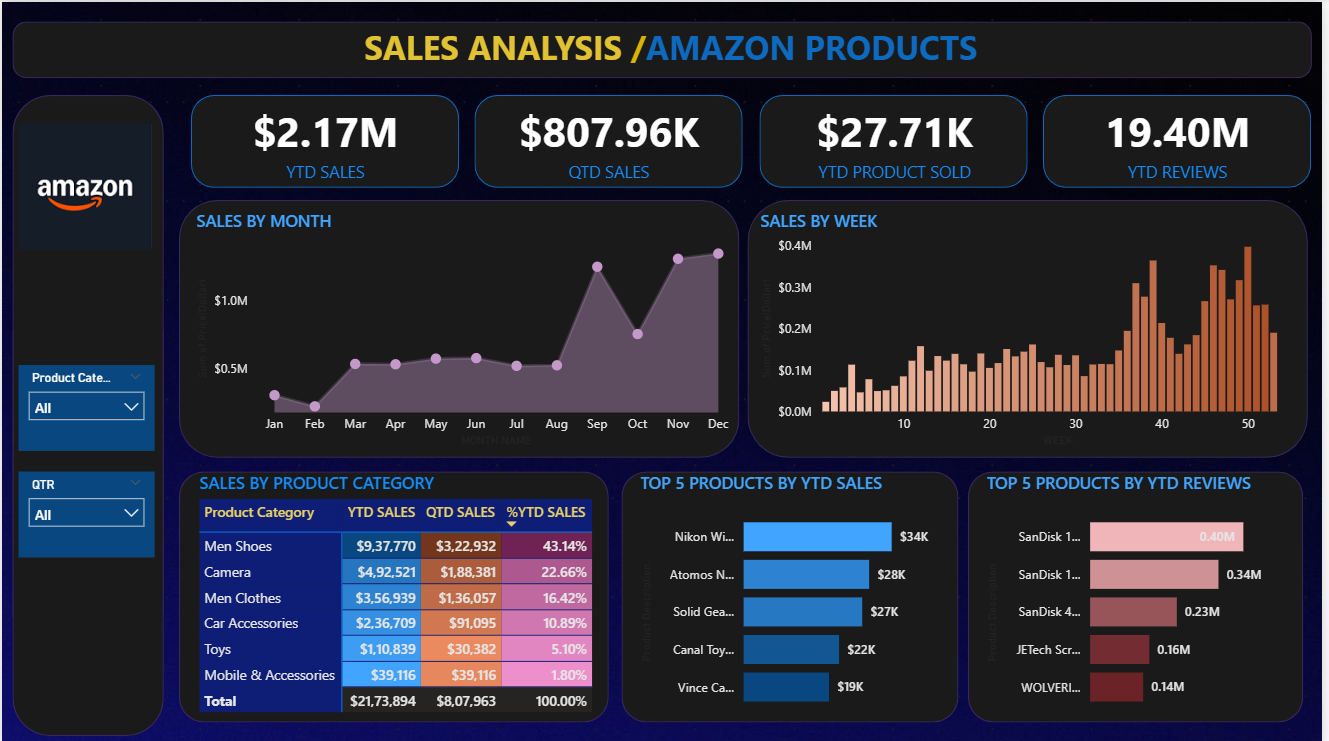

Layout of this report page (visuals, bound fields, positions):
{"tool":"powerbi","page":{"name":"Page 1","canvas":[1280,720],"ordinal":0},"visuals":[{"type":"shape","box":[183.3,90,260,90],"z":0,"group":"g1"},{"type":"shape","box":[10,18.3,1260,55],"z":0},{"type":"shape","box":[458.9,90,260,90],"z":1000,"group":"g1"},{"type":"textbox","box":[346.7,16.7,620,58.3],"z":1000},{"type":"shape","box":[734.4,90,260,90],"z":2000,"group":"g1"},{"type":"shape","box":[10,90,146.7,621.7],"z":2000},{"type":"shape","box":[1010,90,260,90],"z":3000,"group":"g1"},{"type":"group","id":"g1","title":"Group 1","box":[183.3,90,1086.7,90],"z":3000},{"type":"card","fields":{"Values":["Amazon_Data.YTD SALES"]},"box":[183.3,90,260,90],"z":4000,"group":"g1"},{"type":"shape","box":[171.7,191.7,543.3,250],"z":4000},{"type":"card","fields":{"Values":["Amazon_Data.QTD SALES"]},"box":[458.3,90,260,90],"z":5000,"group":"g1"},{"type":"areaChart","title":"SALES BY MONTH","fields":{"Category":["DATE TABLE.MONTH NAME"],"Y":["Sum(Amazon_Data.Price(Dollar))"]},"box":[183.3,200,531.7,235],"z":5000},{"type":"card","fields":{"Values":["Amazon_Data.YTD PRODUCT SOLD"]},"box":[736.1,90.6,258.3,90],"z":6000,"group":"g1"},{"type":"shape","box":[723.3,191.7,543.3,250],"z":6000},{"type":"card","fields":{"Values":["Amazon_Data.YTD REVIEWS"]},"box":[1010,90,260,90],"z":7000,"group":"g1"},{"type":"columnChart","title":"SALES BY WEEK","fields":{"Category":["DATE TABLE.WEEK"],"Y":["Sum(Amazon_Data.Price(Dollar))"]},"box":[730,200,531.7,235],"z":7000},{"type":"shape","box":[171.7,455,416.7,243.3],"z":8000},{"type":"pivotTable","title":"SALES BY PRODUCT CATEGORY","fields":{"Values":["Amazon_Data.YTD SALES","Amazon_Data.QTD SALES","Divide(Amazon_Data.YTD SALES, ScopedEval(Amazon_Data.YTD SALES, []))"],"Rows":["Amazon_Data.Product Category"]},"box":[186.7,455,401.7,243.3],"z":9000},{"type":"shape","box":[600,455,326.7,243.3],"z":11000},{"type":"shape","box":[936.7,455,325,243.3],"z":12000},{"type":"clusteredBarChart","title":"TOP 5 PRODUCTS BY YTD SALES","fields":{"Category":["Amazon_Data.Product Description"],"Y":["Amazon_Data.YTD SALES"]},"box":[613.3,455,300,243.3],"z":13000},{"type":"clusteredBarChart","title":"TOP 5 PRODUCTS BY YTD REVIEWS","fields":{"Category":["Amazon_Data.Product Description"],"Y":["DATE TABLE.YTD REVIEWS"]},"box":[950,455,300,243.3],"z":14000},{"type":"slicer","fields":{"Values":["Amazon_Data.Product Category"]},"box":[16.7,351.7,131.7,83.3],"z":15000},{"type":"slicer","fields":{"Values":["DATE TABLE.QTR"]},"box":[16.7,455,131.7,83.3],"z":16000},{"type":"image","box":[10,103.3,140,151.7],"z":17000}]}

Visuals, with their boxes in screenshot pixels (x1, y1, x2, y2), scaled from the page's 1280x720 canvas onto the 1329x741 screenshot:
shape: crop(190, 93, 460, 185)
shape: crop(10, 19, 1319, 75)
shape: crop(476, 93, 746, 185)
textbox: crop(360, 17, 1004, 77)
shape: crop(763, 93, 1032, 185)
shape: crop(10, 93, 163, 732)
shape: crop(1049, 93, 1319, 185)
"Group 1" group: crop(190, 93, 1319, 185)
card - Amazon_Data.YTD SALES: crop(190, 93, 460, 185)
shape: crop(178, 197, 742, 455)
card - Amazon_Data.QTD SALES: crop(476, 93, 746, 185)
"SALES BY MONTH" areaChart: crop(190, 206, 742, 448)
card - Amazon_Data.YTD PRODUCT SOLD: crop(764, 93, 1032, 186)
shape: crop(751, 197, 1315, 455)
card - Amazon_Data.YTD REVIEWS: crop(1049, 93, 1319, 185)
"SALES BY WEEK" columnChart: crop(758, 206, 1310, 448)
shape: crop(178, 468, 611, 719)
"SALES BY PRODUCT CATEGORY" pivotTable: crop(194, 468, 611, 719)
shape: crop(623, 468, 962, 719)
shape: crop(973, 468, 1310, 719)
"TOP 5 PRODUCTS BY YTD SALES" clusteredBarChart: crop(637, 468, 948, 719)
"TOP 5 PRODUCTS BY YTD REVIEWS" clusteredBarChart: crop(986, 468, 1298, 719)
slicer - Amazon_Data.Product Category: crop(17, 362, 154, 448)
slicer - DATE TABLE.QTR: crop(17, 468, 154, 554)
image: crop(10, 106, 156, 262)
